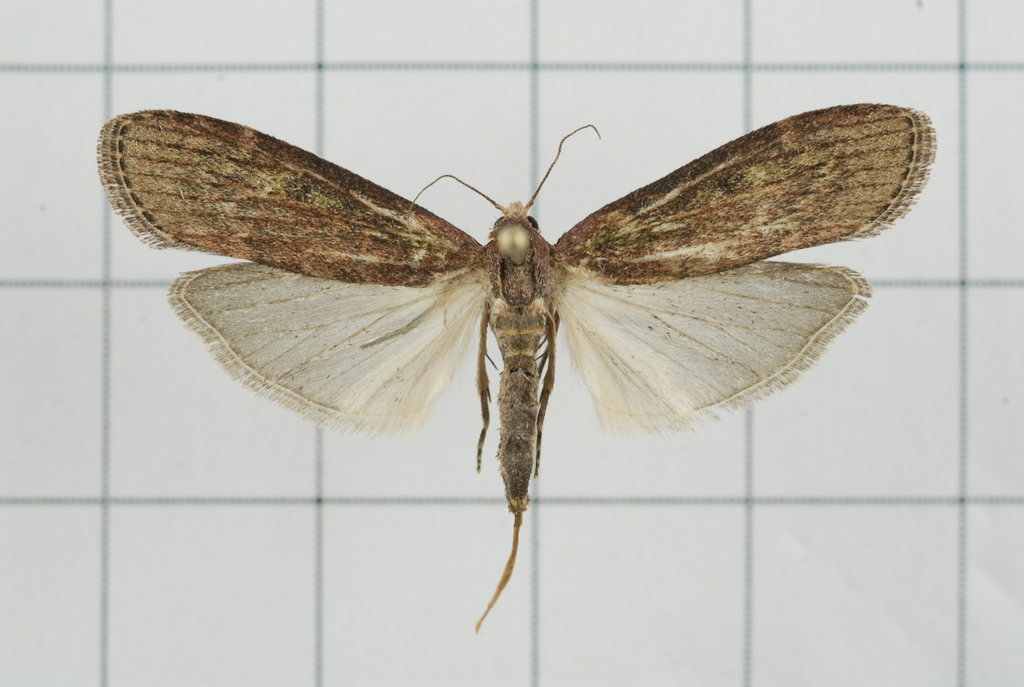Butterfly: (79, 86, 953, 591)
